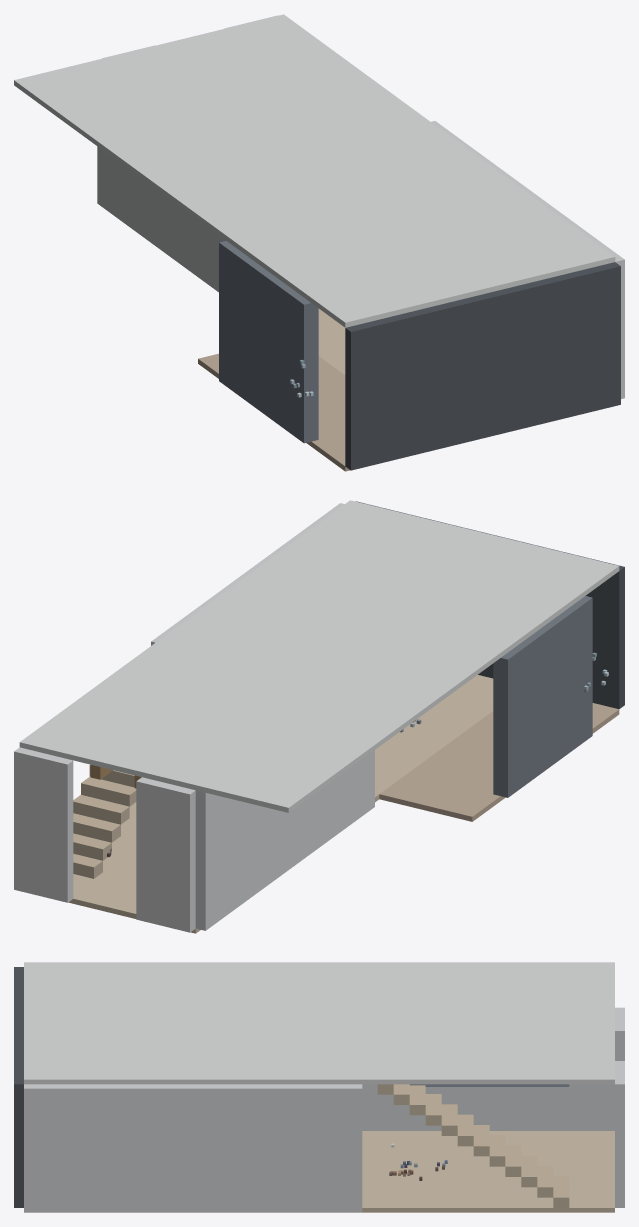
File: building.glb
The picture shows the model from 3 angles, top to bottom: view 1: azimuth 30°, elevation 25°; view 2: azimuth 150°, elevation 25°; view 3: azimuth 270°, elevation 25°; orthographic projection. The views are drawn at different scales.
Visible parts, largest first — view 1: geometry_0; view 2: geometry_0; view 3: geometry_0.
Part boxes in pixels (x1,y1,x2,y2): geometry_0: (14, 14, 624, 471); geometry_0: (14, 500, 624, 933); geometry_0: (14, 962, 624, 1212).
Bounding box in the file's own units: 6.04 × 2.9 × 12.1.
